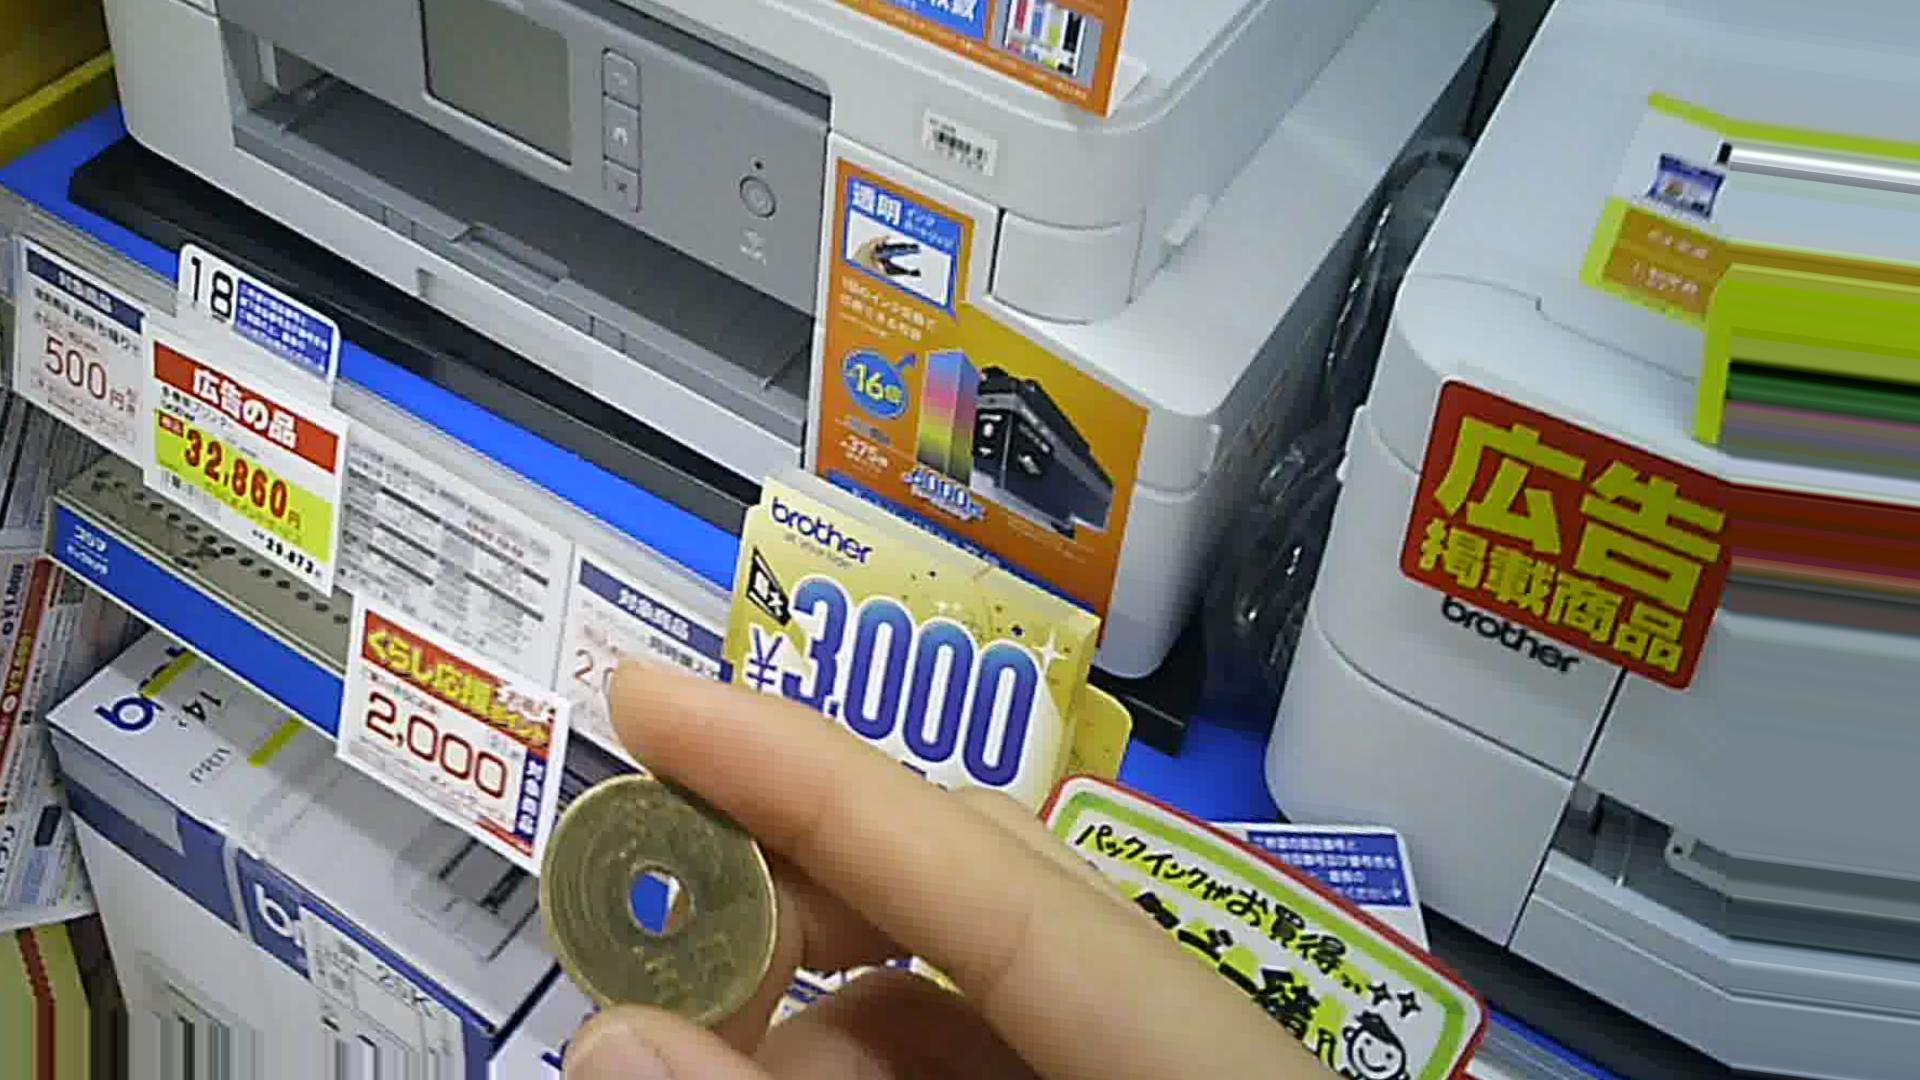5 Yen: (541, 764, 773, 1035)
